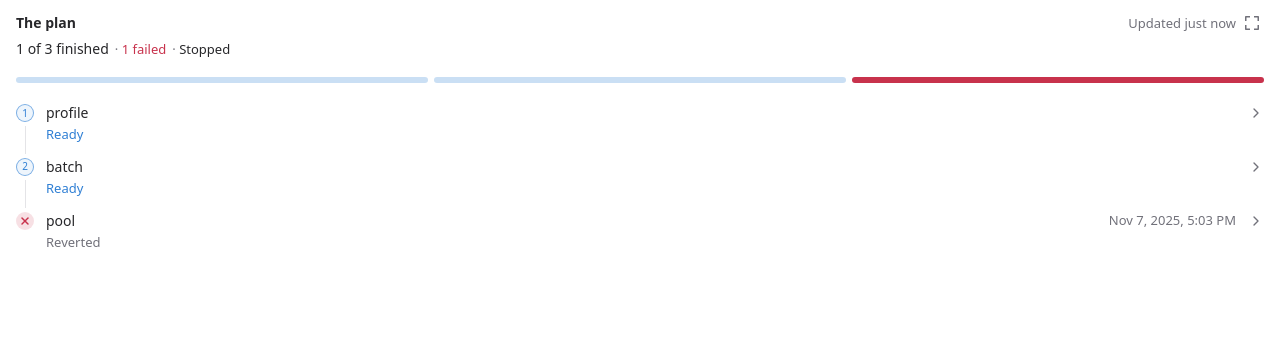
Test case: TasksPanel › opens a task's history: what it waits on, then its entries, oldest first
This screenshot has width=1280, height=360.
Click the button with test id "tasks-row-history" at x=1256, y=221, box [1244,209,1268,233]
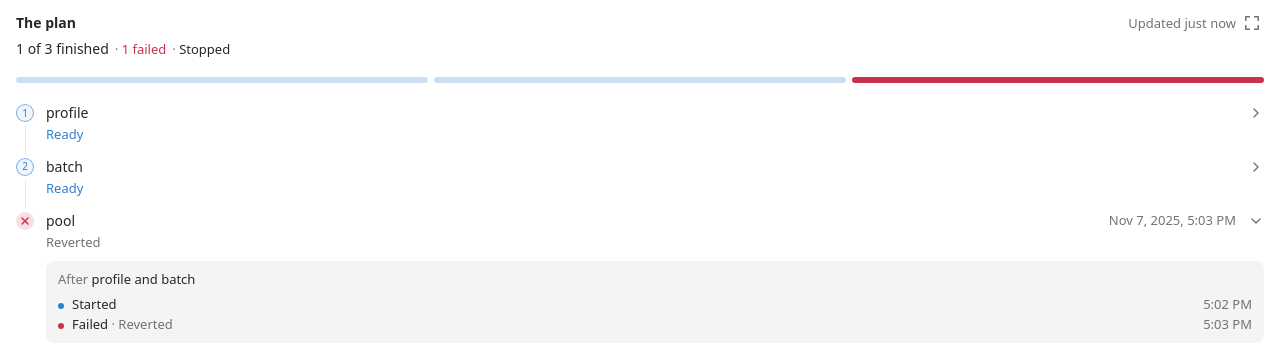
Result: the text "After profile and batch" is shown at [58,270,195,288]
